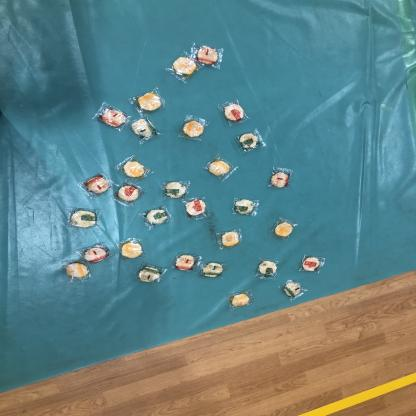green_setoshio: (128, 116, 162, 143), (235, 129, 268, 155), (132, 264, 170, 286), (230, 195, 264, 219), (70, 209, 102, 232), (141, 207, 176, 228), (277, 278, 309, 300), (197, 258, 225, 280), (254, 258, 282, 280), (162, 179, 190, 200)
red_setoshio: (216, 98, 253, 127), (93, 104, 134, 129), (195, 41, 228, 70), (82, 172, 116, 199), (116, 180, 146, 208), (267, 166, 296, 191), (181, 199, 212, 221), (298, 252, 326, 275), (171, 251, 199, 274), (82, 245, 112, 266)
yellow_setoshio: (115, 156, 154, 182), (177, 112, 207, 145), (130, 88, 168, 114), (204, 154, 238, 182), (166, 54, 198, 81), (60, 260, 93, 282), (271, 217, 300, 242), (226, 288, 256, 312), (216, 227, 245, 250), (118, 236, 145, 260)
